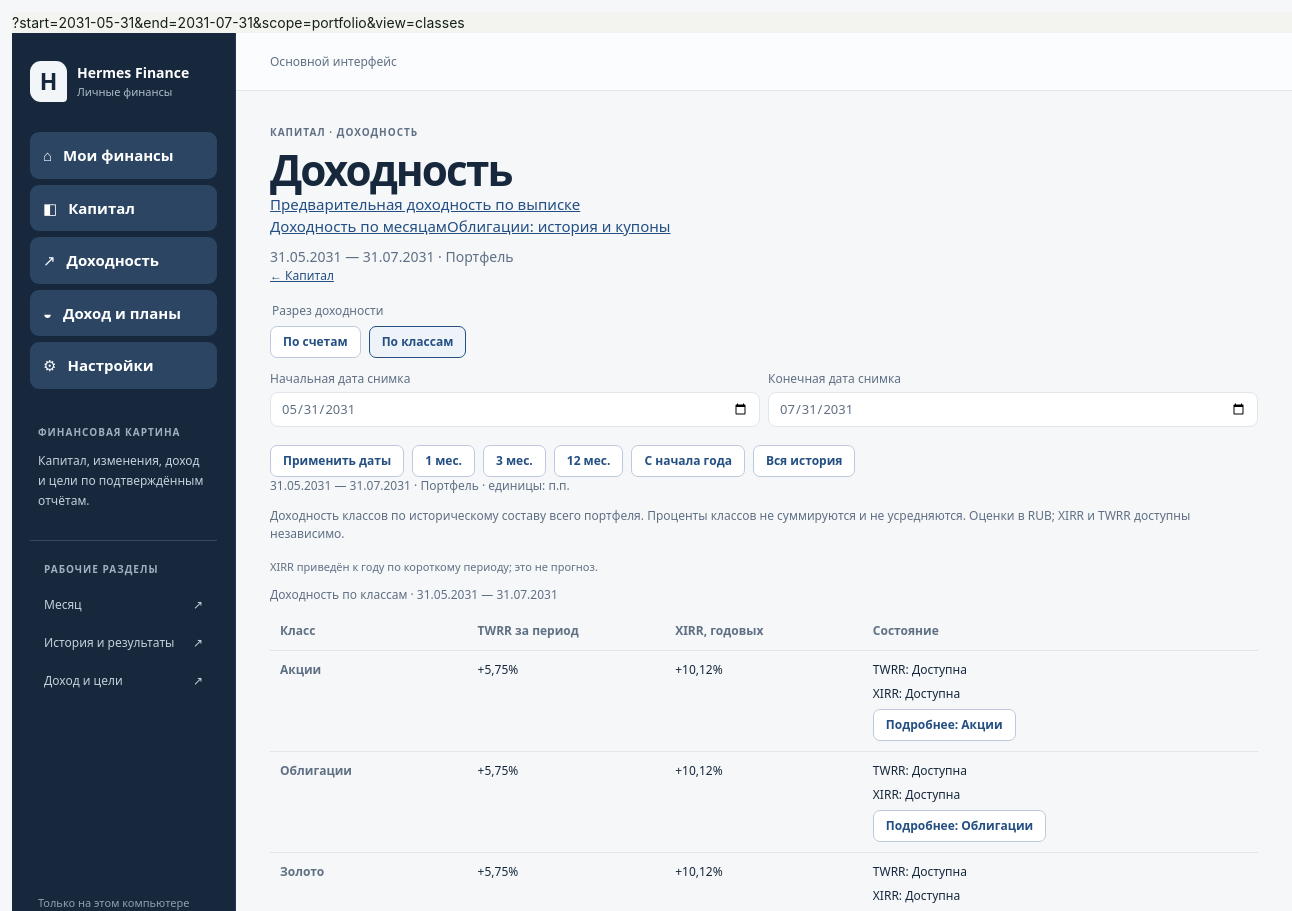
Test: class returns in existing Performance detail › applies an exact month preset in Classes, preserving view/scope and refetching each class
The width and height of the screenshot is (1292, 911).
Click the button "1 мес.".
click(444, 461)  # box [412,445,475,477]
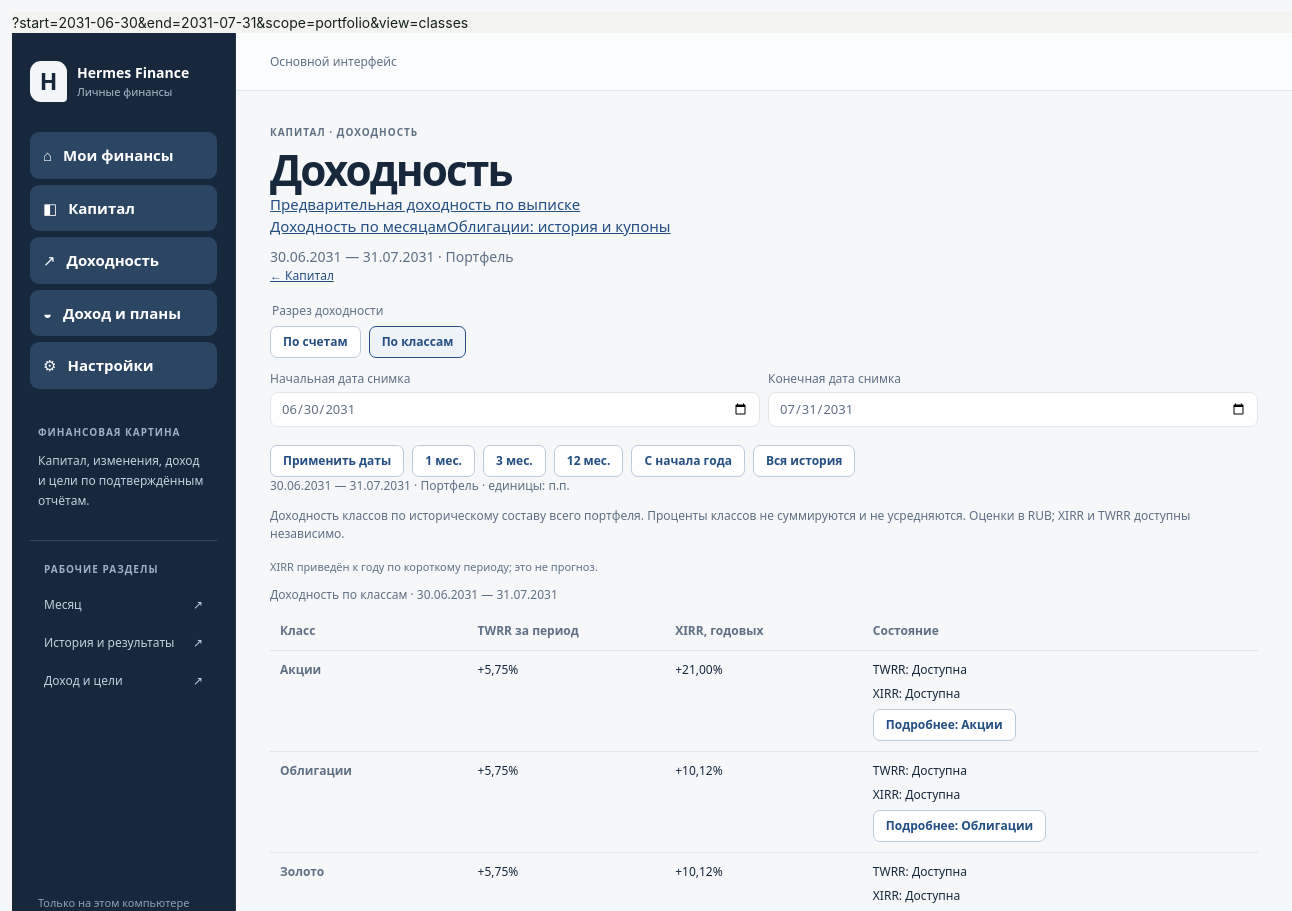
Expected: the row with test id "class-return-stock" shows "+21,00%", [675,661,723,678]
